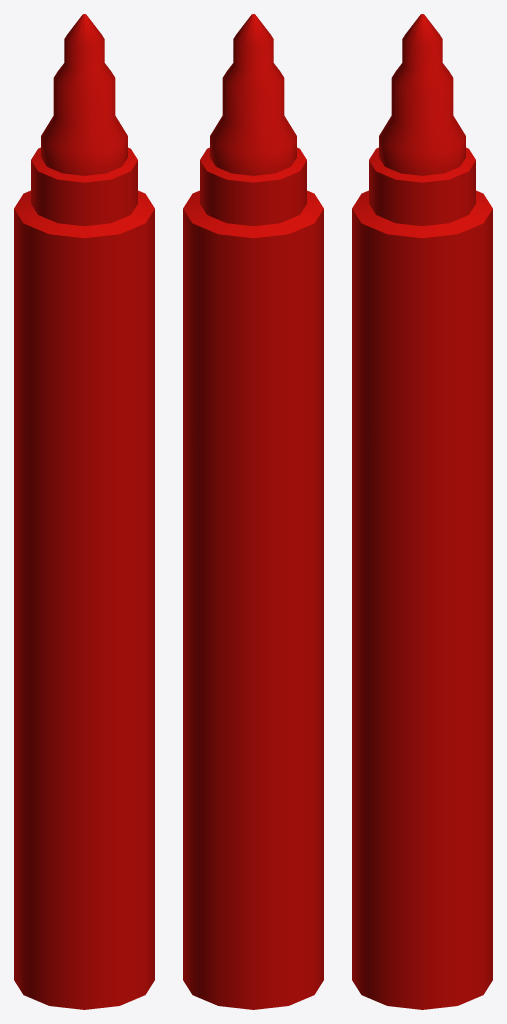
The model's file is red_marker.glb.
The picture shows the model from 3 angles, left to right: view 1: azimuth 30°, elevation 25°; view 2: azimuth 150°, elevation 25°; view 3: azimuth 270°, elevation 25°; orthographic projection.
Visible parts, largest first — view 1: red_marker; view 2: red_marker; view 3: red_marker.
Boxes of the visible parts, box(x1,y1,x2,y2) form: red_marker: box(14, 14, 154, 1009); red_marker: box(183, 14, 323, 1009); red_marker: box(352, 14, 492, 1009).
Bounding box in the file's own units: 0.0132 × 0.1 × 0.0132.
Materials: 2 (2 with a texture image).
